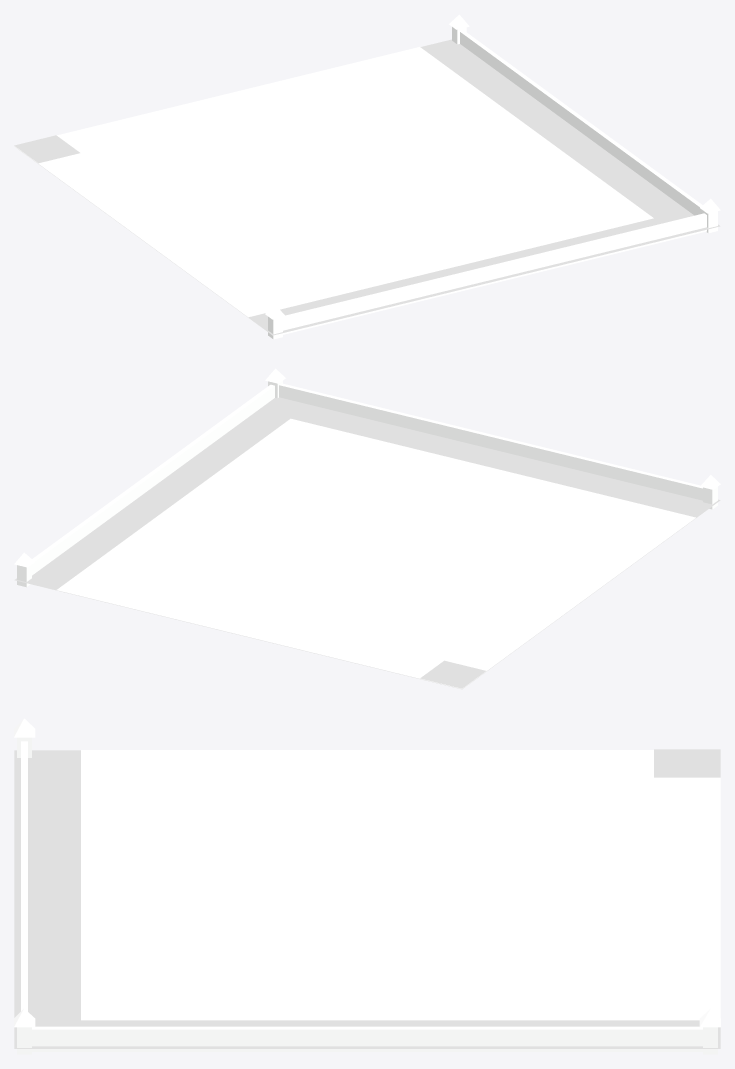
The model's file is tile_for_home_1x1.014.glb.
The picture shows the model from 3 angles, top to bottom: view 1: azimuth 30°, elevation 25°; view 2: azimuth 150°, elevation 25°; view 3: azimuth 270°, elevation 25°; orthographic projection. The views are drawn at different scales.
Visible parts, largest first — view 1: tile_for_home_1x1.014(Clone); view 2: tile_for_home_1x1.014(Clone); view 3: tile_for_home_1x1.014(Clone).
Boxes of the visible parts, x1,y1,x2,y2 form: tile_for_home_1x1.014(Clone): (14, 14, 720, 339); tile_for_home_1x1.014(Clone): (14, 368, 720, 689); tile_for_home_1x1.014(Clone): (14, 718, 720, 1054).
Size of the model in its own units: 8 by 0.5414 by 8.
1 material, 1 textured.
